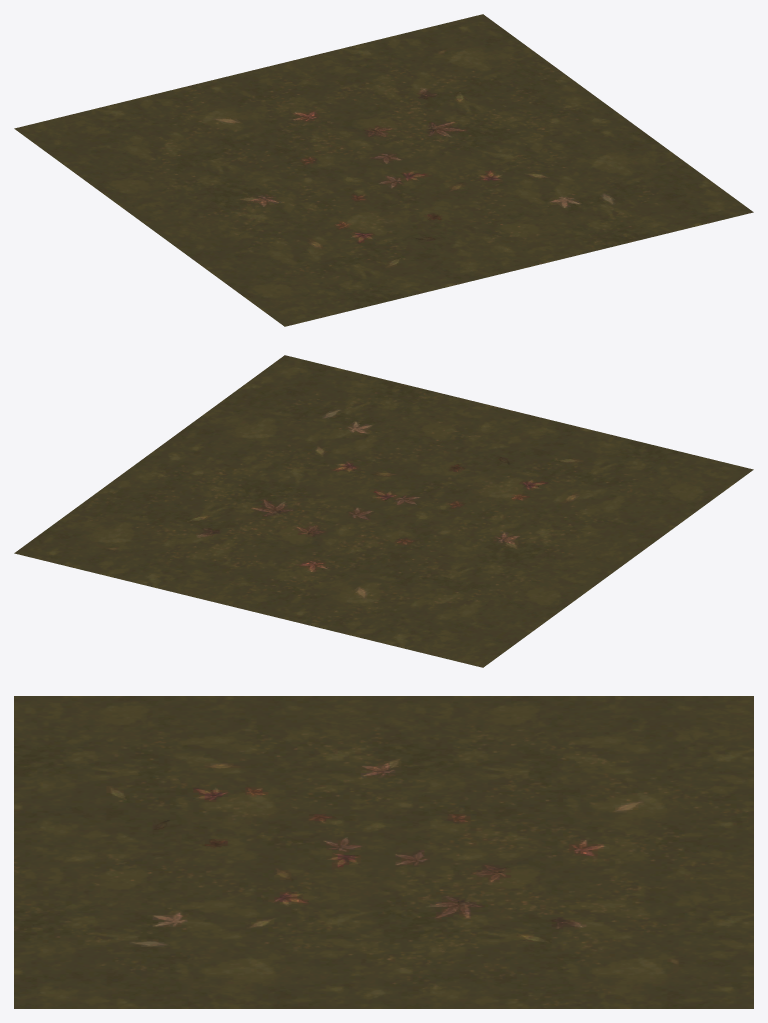
File: bg_anh_tree_mapletree01f_sm_ysi.FBX
3 renders of one model, top to bottom at view 1: azimuth 30°, elevation 25°; view 2: azimuth 150°, elevation 25°; view 3: azimuth 270°, elevation 25°, orthographic. The views are drawn at different scales.
Visible parts, largest first — view 1: bg_anh_tree_mapletree01f_sm_ysi; view 2: bg_anh_tree_mapletree01f_sm_ysi; view 3: bg_anh_tree_mapletree01f_sm_ysi.
Part boxes in pixels (left/top/right/bottom): bg_anh_tree_mapletree01f_sm_ysi: left=14, top=14, right=753, bottom=326; bg_anh_tree_mapletree01f_sm_ysi: left=14, top=355, right=753, bottom=667; bg_anh_tree_mapletree01f_sm_ysi: left=14, top=696, right=753, bottom=1008.
Size of the model in its own units: 256 by 1.01 by 256.
